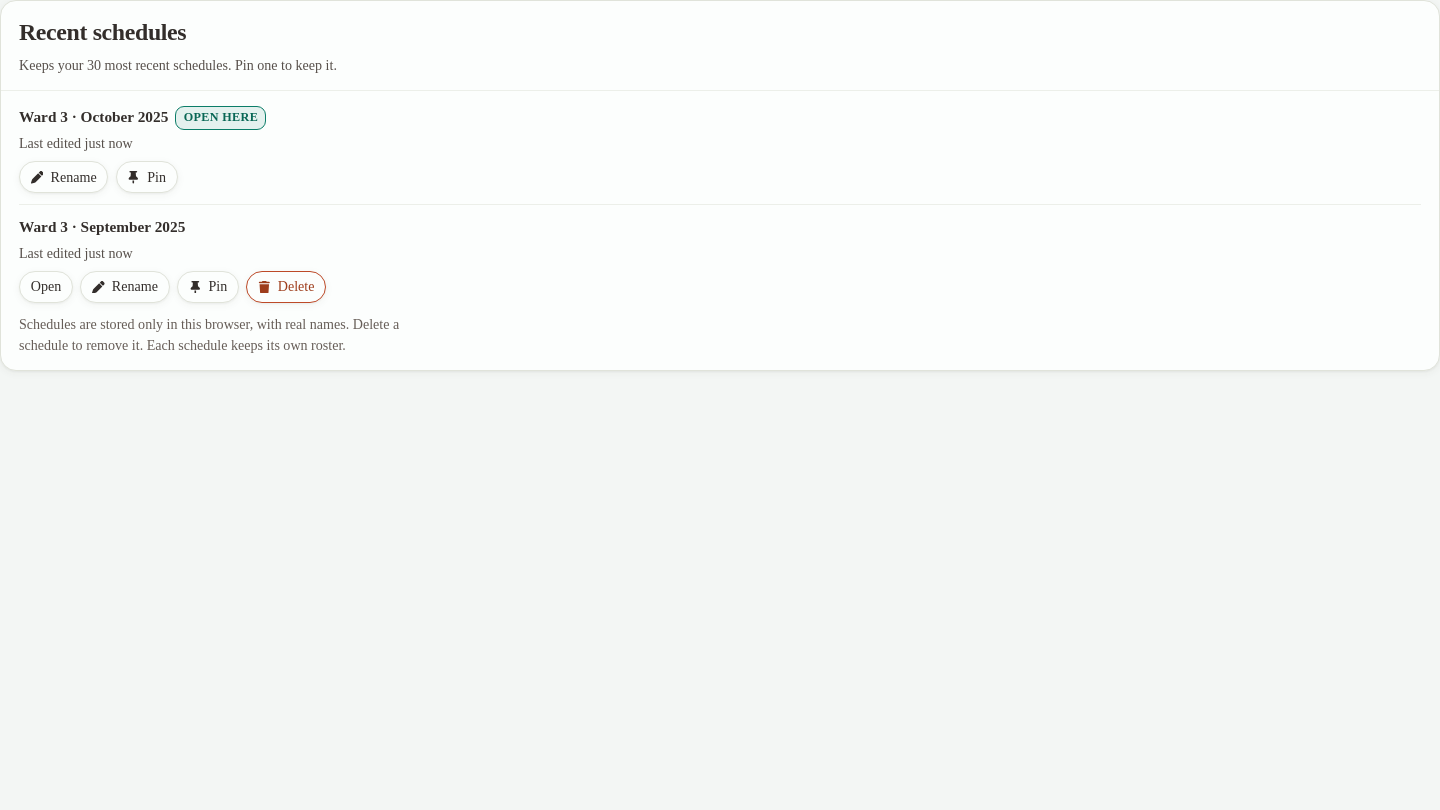
Test: RecentSchedulesCard › deletes a past schedule only after confirming
The width and height of the screenshot is (1440, 810).
Click the button with aria-label "Delete Ward 3 · September 2025". click: (286, 287)
box: [246,271,326,303]
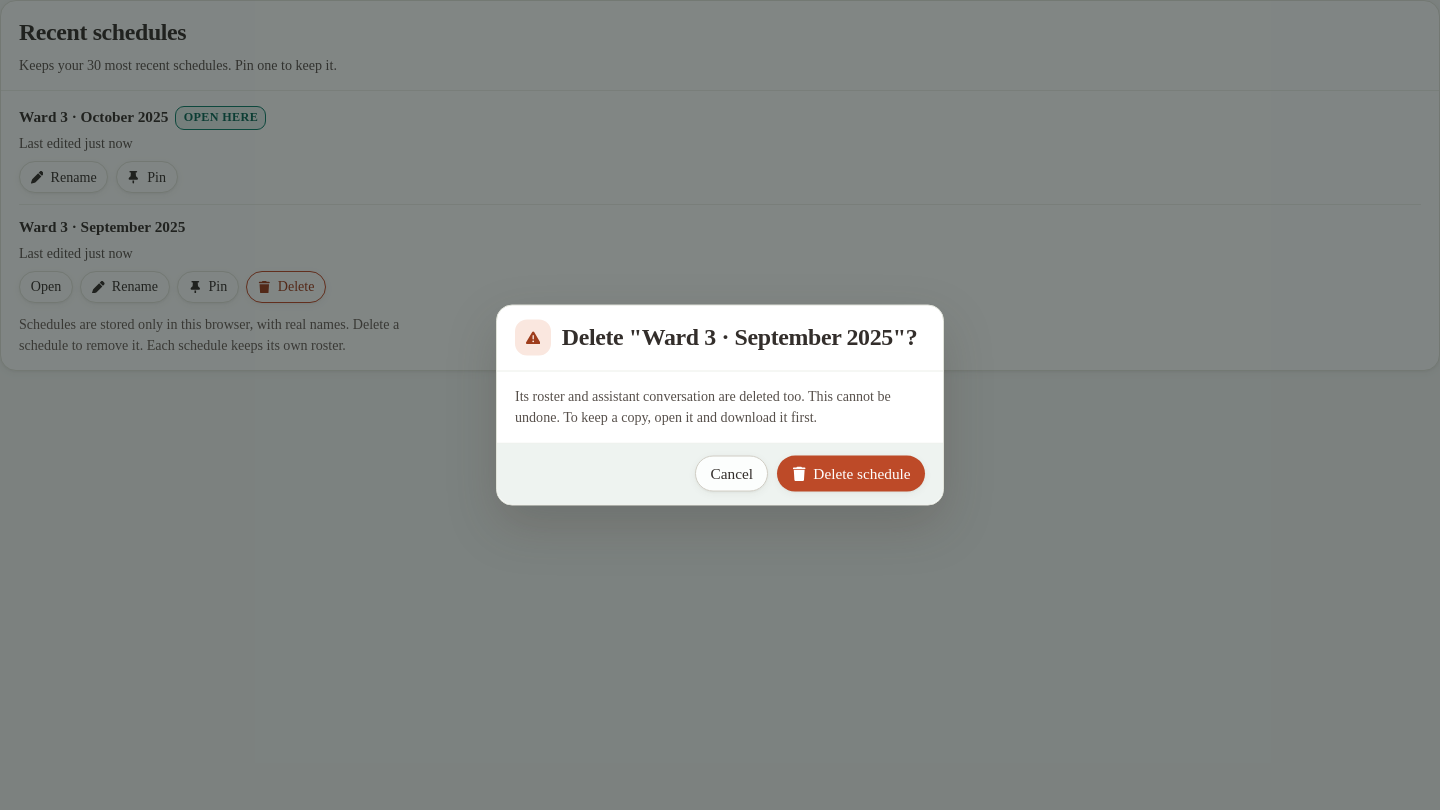
Check: the number of list items with test id "recent-schedule-row" is 2, box [19,106,1421,205]; [19,218,326,303]
Check: the dialog "Delete \"Ward 3 · September 2025\"?" shows "cannot be undone", box [515,388,891,425]
Click the button with test id "confirm-dialog-confirm". click: (851, 474)
box: [777,456,925,492]
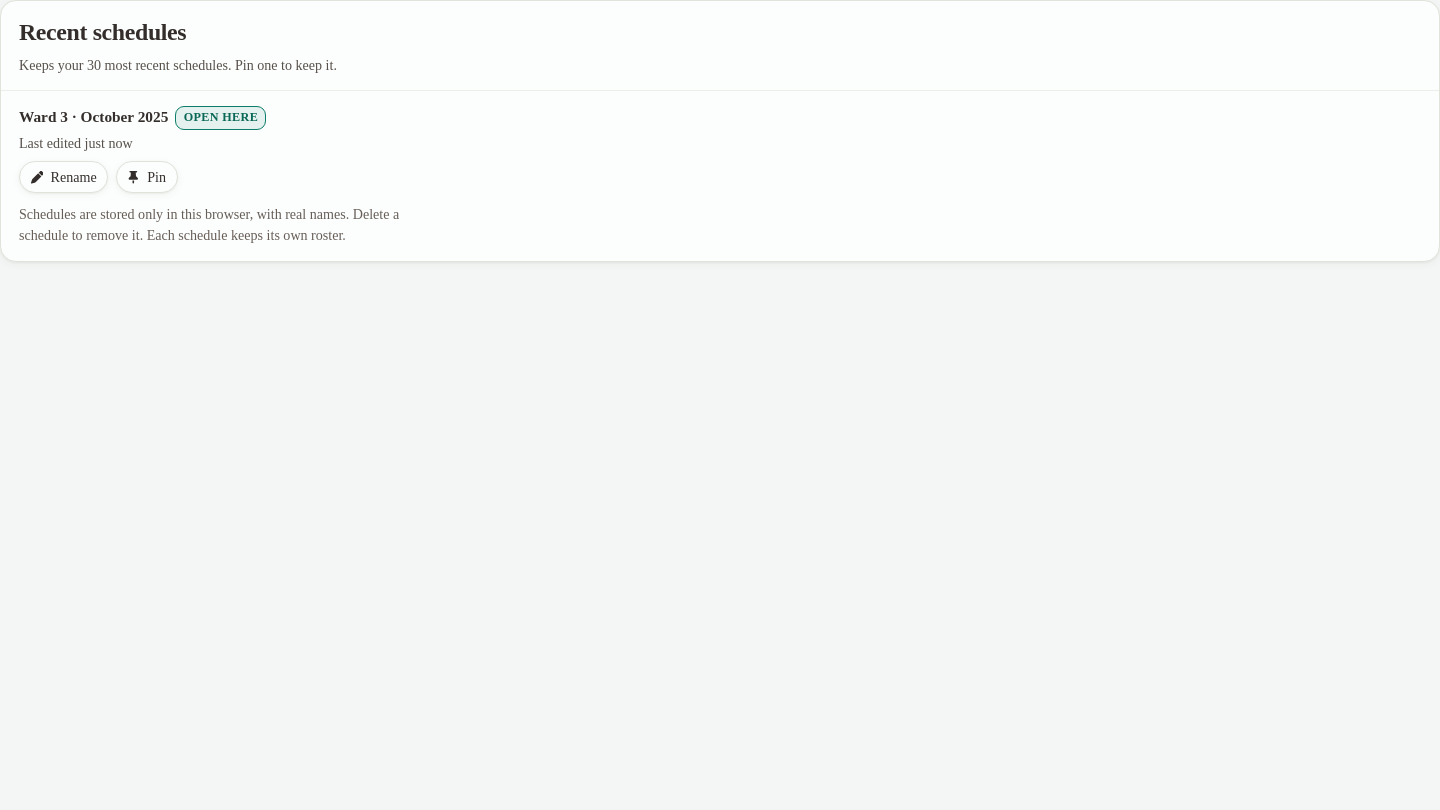
Check: the number of list items with test id "recent-schedule-row" is 1, box [19,106,266,193]
Check: the text "Ward 3 · September 2025" is gone
